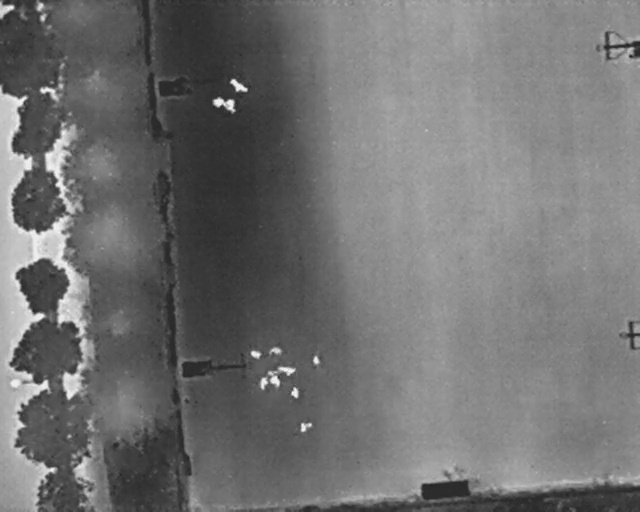Person: (223, 75, 251, 98), (276, 365, 298, 378), (298, 421, 313, 434), (267, 344, 283, 356), (211, 95, 225, 108), (223, 97, 235, 112), (249, 349, 263, 360), (269, 376, 281, 388), (290, 385, 299, 401), (259, 376, 268, 391), (311, 354, 321, 366)
